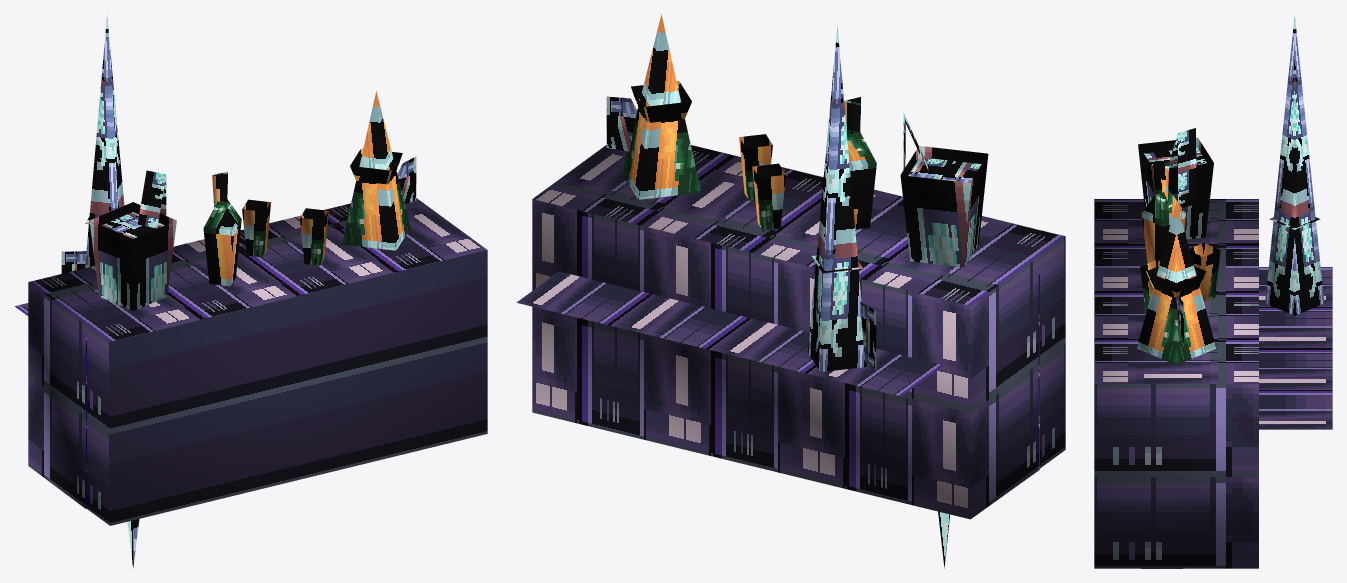
The model's file is 3309IMIG08_06.gltf.
The picture shows the model from 3 angles, left to right: view 1: azimuth 30°, elevation 25°; view 2: azimuth 150°, elevation 25°; view 3: azimuth 270°, elevation 25°; orthographic projection. The views are drawn at different scales.
Parts seen in each view (by area): view 1: 3309IMIG08_06; view 2: 3309IMIG08_06; view 3: 3309IMIG08_06.
Boxes of the visible parts, box(x1,y1,x2,y2) form: 3309IMIG08_06: box(15, 14, 487, 568); 3309IMIG08_06: box(516, 14, 1065, 568); 3309IMIG08_06: box(1094, 15, 1332, 568).
Size of the model in its own units: 1.75 by 2.21 by 0.9468.
Materials: 4 (4 with a texture image).
